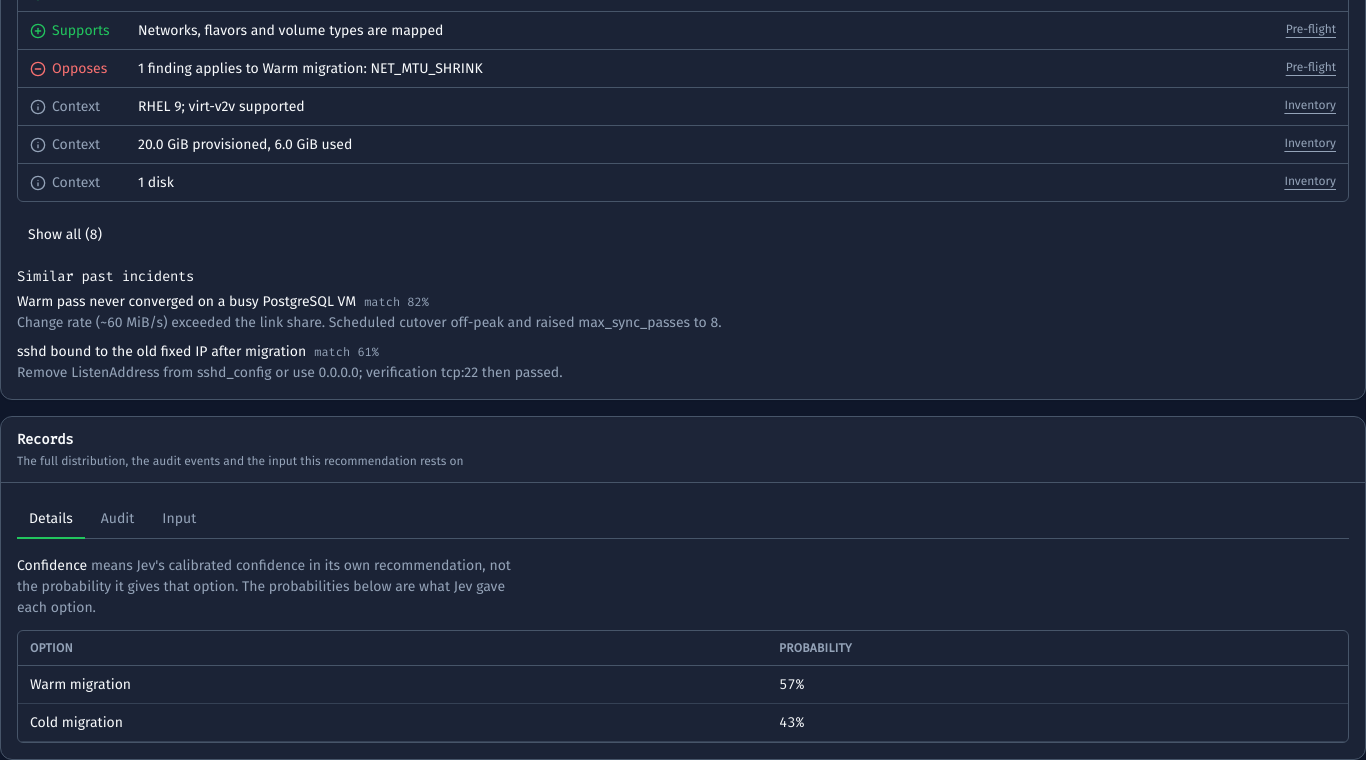
Test: Recommendation detail (SDD §14.5, ADV-05) › shows the redacted input and checks its SHA-256 in the browser
(page scrolled)
Click the tab "Input". click: (179, 519)
box: [150,499,208,539]
(page scrolled)
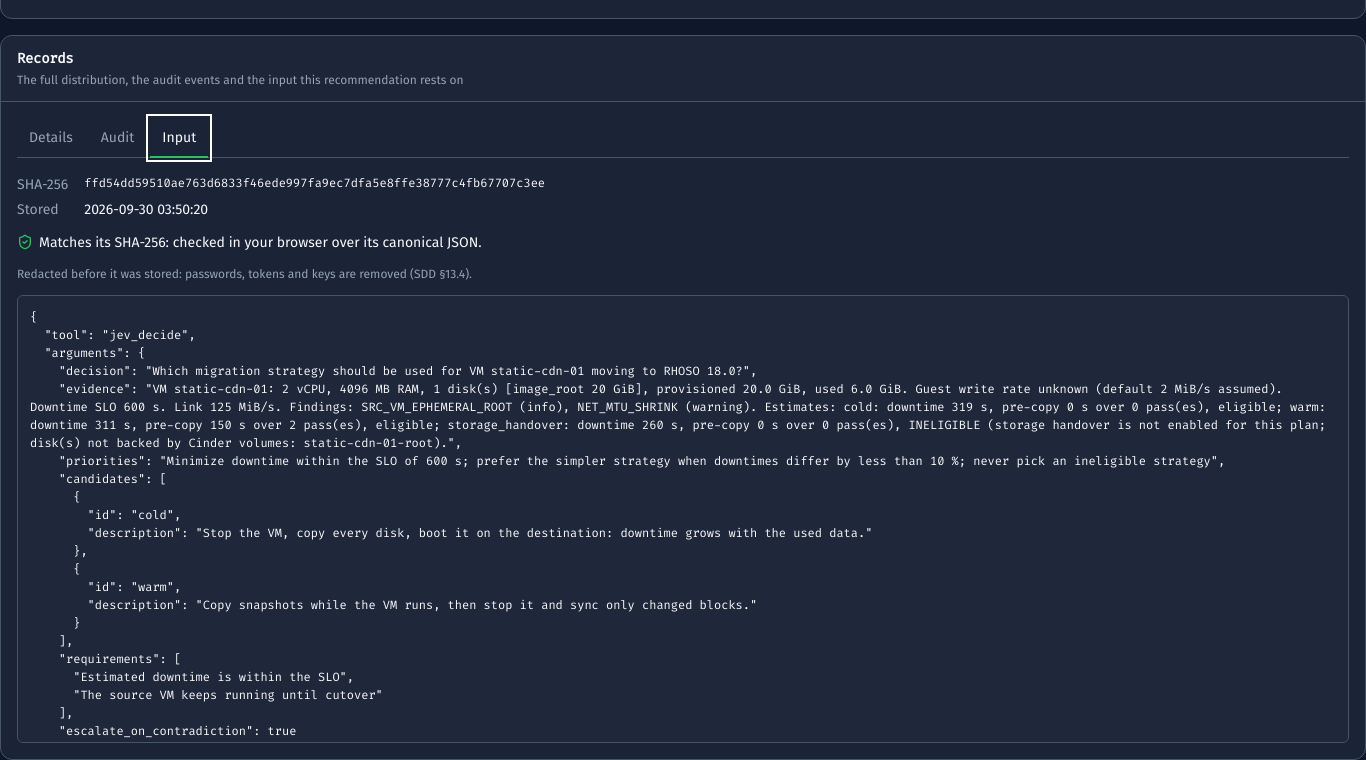
Result: the text "Matches its SHA-256: checked in your browser over its canonical JSON." is shown at [17,234,482,251]
